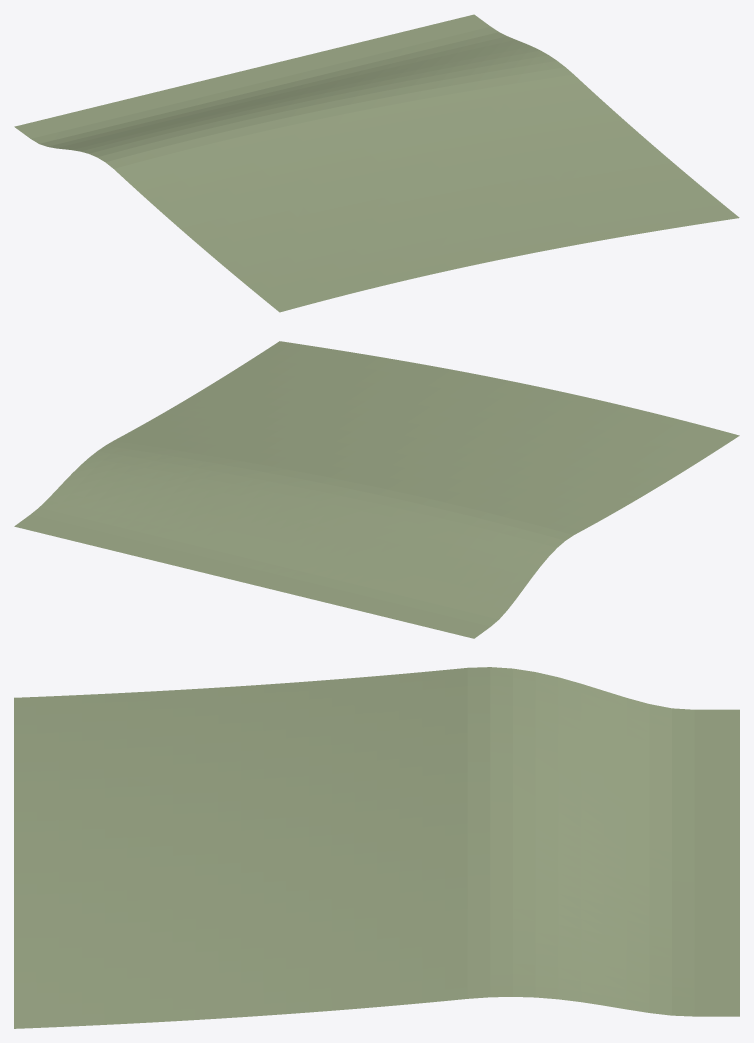
The model's file is valley-2-3.glb.
The picture shows the model from 3 angles, top to bottom: view 1: azimuth 30°, elevation 25°; view 2: azimuth 150°, elevation 25°; view 3: azimuth 270°, elevation 25°; orthographic projection. The views are drawn at different scales.
Visible parts, largest first — view 1: valley-2-3; view 2: valley-2-3; view 3: valley-2-3.
Boxes of the visible parts, left/top/right/bottom form: valley-2-3: left=14, top=14, right=739, bottom=312; valley-2-3: left=14, top=341, right=739, bottom=638; valley-2-3: left=14, top=667, right=739, bottom=1028.
Size of the model in its own units: 256 by 22.17 by 256.
